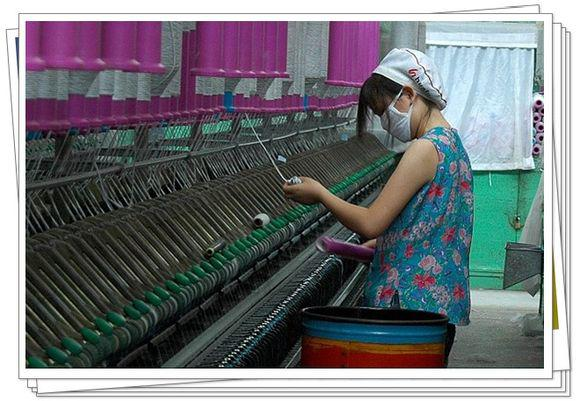OK: (370, 95, 422, 145)
